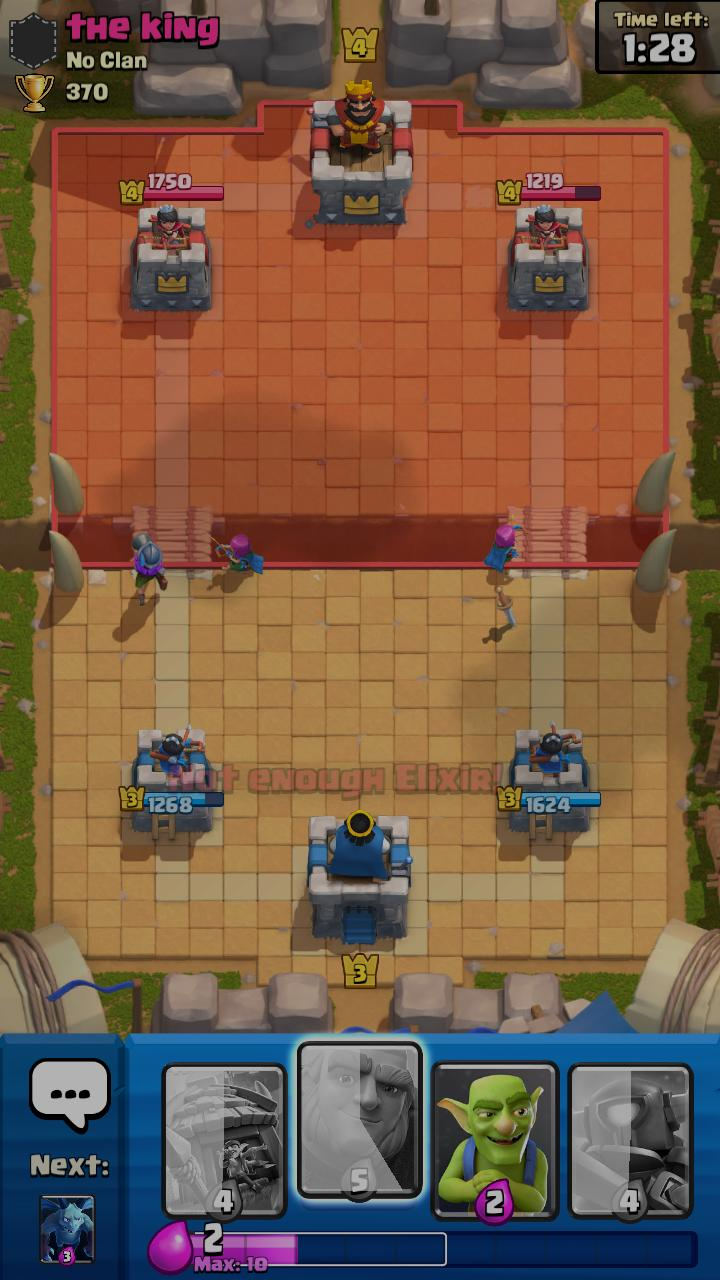ally: (483, 515, 529, 574), (131, 533, 168, 606), (211, 534, 264, 575)
